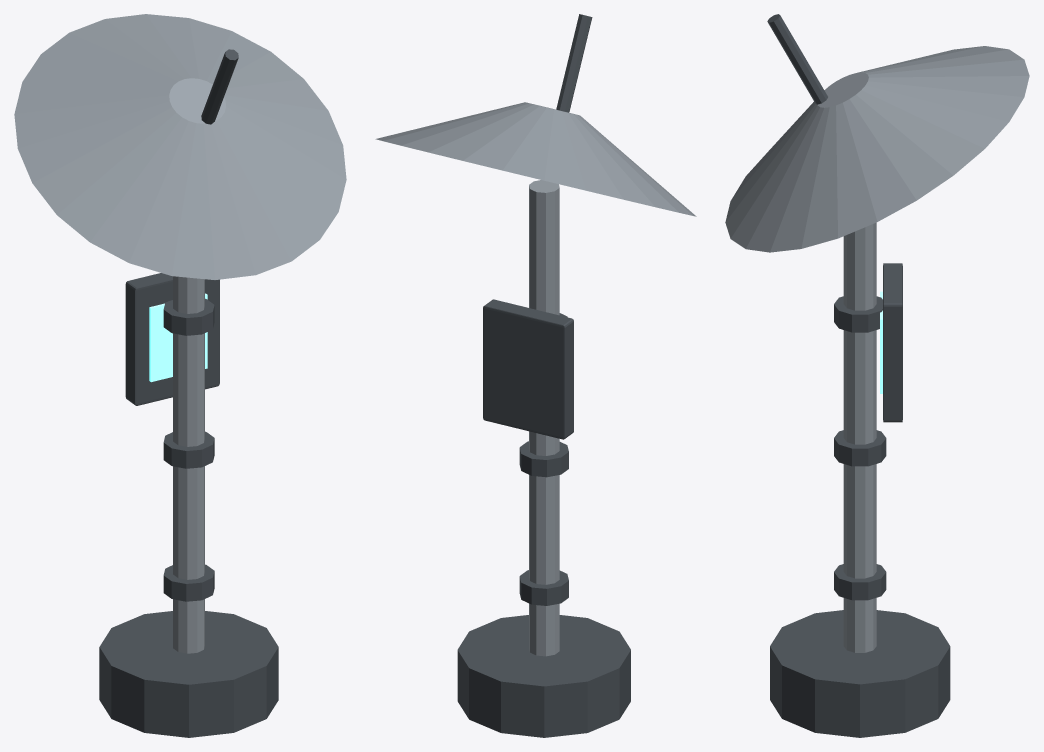
Rendered from radar_dish.glb.
3 renders of one model, left to right at view 1: azimuth 30°, elevation 25°; view 2: azimuth 150°, elevation 25°; view 3: azimuth 270°, elevation 25°, orthographic. The views are drawn at different scales.
Visible parts, largest first — view 1: Dish, Base, Mast, Panel, PanelGlow, Collar, Collar.001, Collar.002, Feed; view 2: Base, Dish, Panel, Mast, Feed, Collar, Collar.001; view 3: Dish, Base, Mast, Panel, Feed, Collar, Collar.001, Collar.002.
Boxes of the visible parts, box(x1,y1,x2,y2) form: Dish: box(14, 14, 346, 279); Base: box(99, 611, 278, 737); Mast: box(173, 276, 204, 653); Panel: box(125, 273, 219, 405); PanelGlow: box(149, 293, 207, 382); Collar: box(163, 564, 214, 601); Collar.001: box(163, 431, 214, 468); Collar.002: box(163, 298, 214, 335); Feed: box(201, 49, 238, 124); Base: box(457, 615, 630, 737); Dish: box(375, 102, 696, 216); Panel: box(483, 299, 573, 439); Mast: box(529, 180, 559, 656); Feed: box(556, 14, 592, 112); Collar: box(519, 570, 568, 605); Collar.001: box(519, 441, 568, 477); Dish: box(725, 46, 1029, 252); Base: box(770, 610, 950, 737); Mast: box(843, 222, 876, 652); Panel: box(883, 263, 902, 422); Feed: box(767, 14, 827, 104); Collar: box(834, 564, 886, 600); Collar.001: box(834, 430, 886, 466); Collar.002: box(834, 296, 882, 332).
Bounding box in the file's own units: 2.1 × 4.6 × 1.85.
